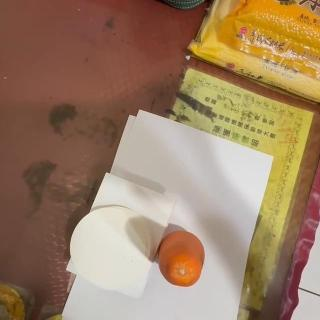carrot: (154, 230, 208, 288)
